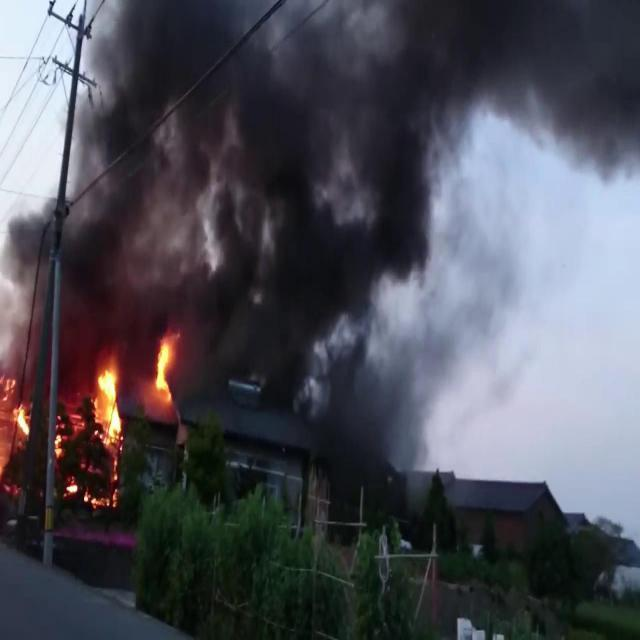Fire: (92, 366, 122, 443), (154, 337, 176, 401), (16, 406, 32, 436), (84, 492, 118, 506), (66, 480, 79, 496)
